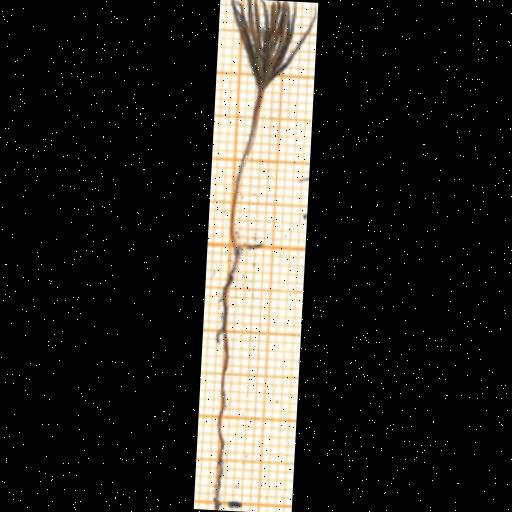flowerPinus: (232, 0, 315, 89)
rootPinus: (216, 249, 240, 509)
stemPinus: (230, 89, 264, 247)
